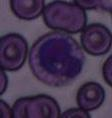N: (28, 32, 87, 86)
